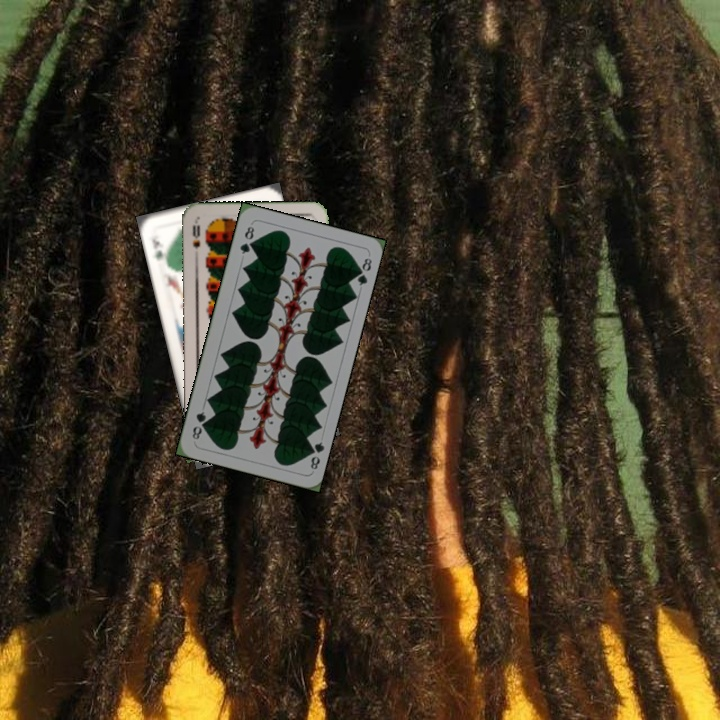G8: (303, 438, 327, 472), (236, 222, 257, 257)
GK: (148, 231, 167, 264)
S8: (189, 218, 202, 251)
